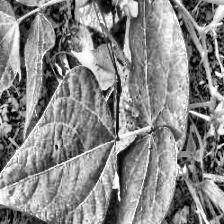ALS: (0, 64, 115, 224), (124, 0, 191, 156)
